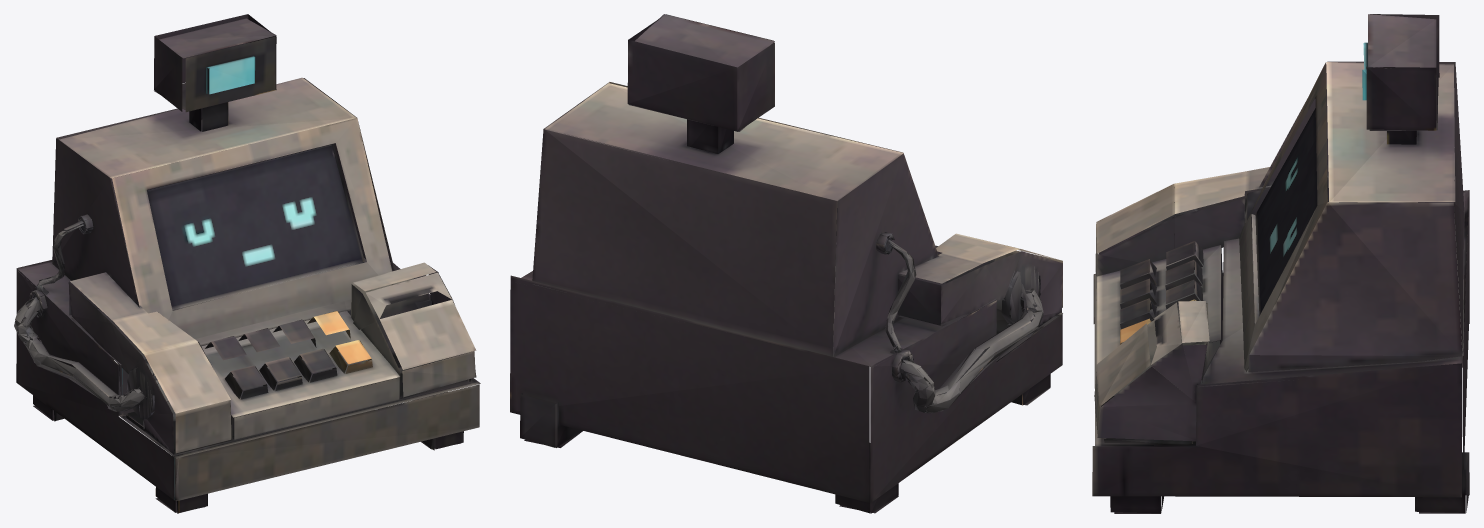
Rendered from PRP_REGISTER_FACE.fbx.
The picture shows the model from 3 angles, left to right: view 1: azimuth 30°, elevation 25°; view 2: azimuth 150°, elevation 25°; view 3: azimuth 270°, elevation 25°; orthographic projection. The views are drawn at different scales.
Visible parts, largest first — view 1: PRP_REGISTER_FACE_Body.001, PRP_REGISTER_FACE_Jaw; view 2: PRP_REGISTER_FACE_Body.001, PRP_REGISTER_FACE_Jaw; view 3: PRP_REGISTER_FACE_Body.001, PRP_REGISTER_FACE_Jaw.
Part boxes in pixels (<box>): PRP_REGISTER_FACE_Body.001: <box>14,14,480,513</box>; PRP_REGISTER_FACE_Jaw: <box>134,272,476,415</box>; PRP_REGISTER_FACE_Body.001: <box>510,14,1062,513</box>; PRP_REGISTER_FACE_Jaw: <box>935,245,1062,300</box>; PRP_REGISTER_FACE_Body.001: <box>1092,14,1469,513</box>; PRP_REGISTER_FACE_Jaw: <box>1096,184,1202,406</box>.
Bounding box in the file's own units: 40.18 × 39.93 × 33.84.
1 material, 1 textured.
